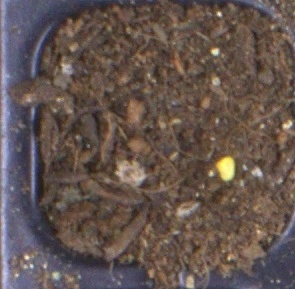chilli seed: (213, 156, 236, 183)
